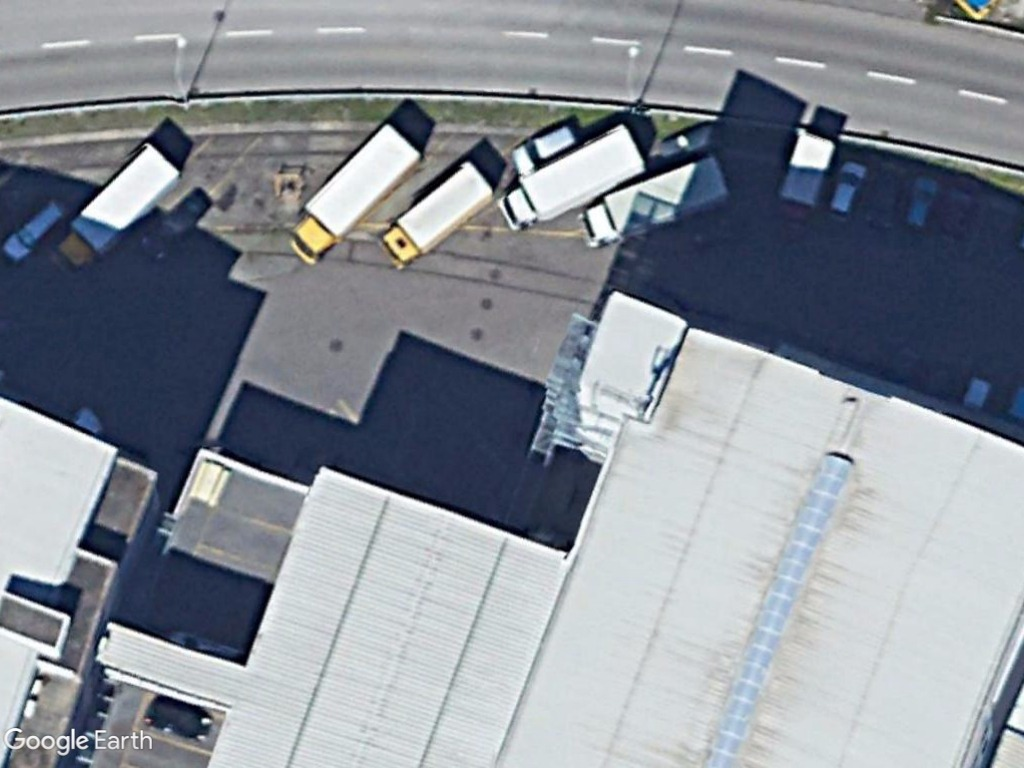car: (510, 119, 581, 176)
truck: (288, 118, 425, 266), (55, 137, 182, 274), (496, 121, 647, 235), (578, 153, 732, 249), (378, 157, 496, 268)
